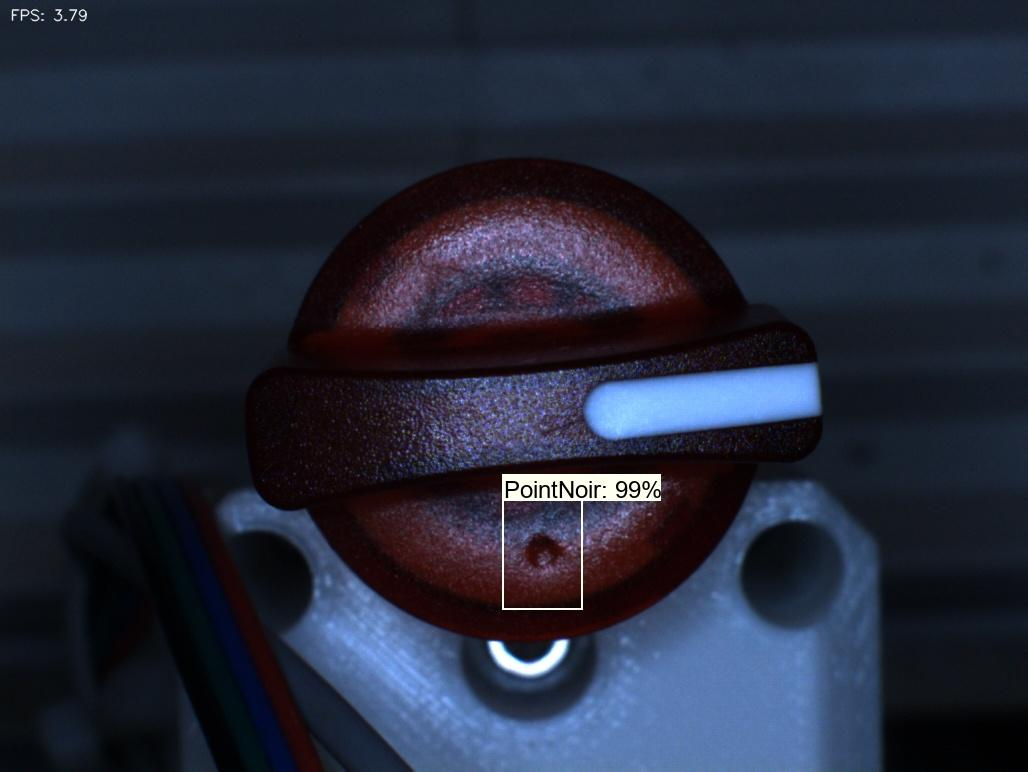Choc: (503, 518, 584, 595)
